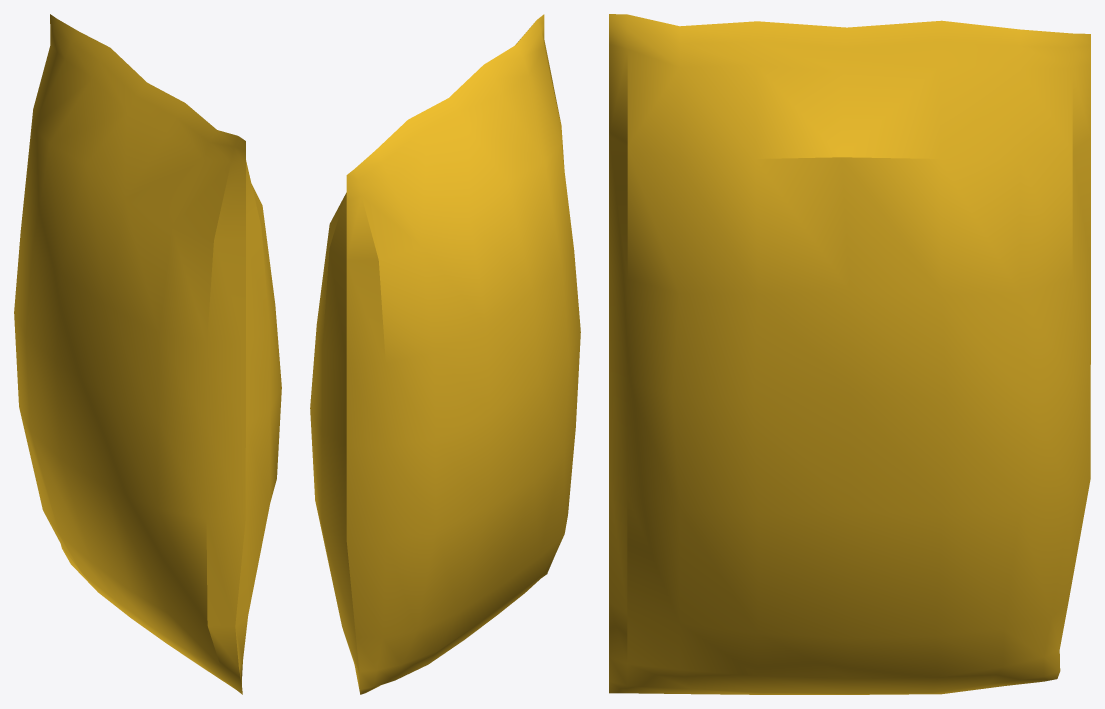
Rendered from Chips.fbx.
The picture shows the model from 3 angles, left to right: view 1: azimuth 30°, elevation 25°; view 2: azimuth 150°, elevation 25°; view 3: azimuth 270°, elevation 25°; orthographic projection. The views are drawn at different scales.
Visible parts, largest first — view 1: Cylinder; view 2: Cylinder; view 3: Cylinder.
Part boxes in pixels (x1,y1,x2,y2): Cylinder: (14, 14, 281, 694); Cylinder: (310, 14, 580, 694); Cylinder: (609, 14, 1090, 694).
Bounding box in the file's own units: 13 × 39 × 25.
